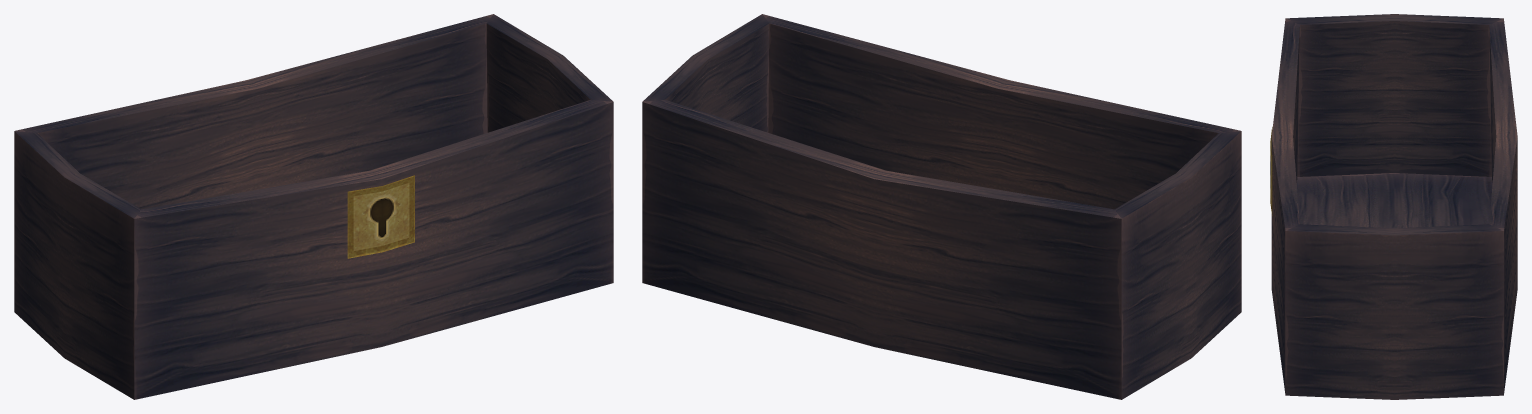
Rendered from Chest_Bottom_B.fbx.
The picture shows the model from 3 angles, left to right: view 1: azimuth 30°, elevation 25°; view 2: azimuth 150°, elevation 25°; view 3: azimuth 270°, elevation 25°; orthographic projection. The views are drawn at different scales.
Visible parts, largest first — view 1: Chest_Bottom_B; view 2: Chest_Bottom_B; view 3: Chest_Bottom_B.
Part boxes in pixels (x1,y1,x2,y2): Chest_Bottom_B: (14, 14, 613, 399); Chest_Bottom_B: (642, 14, 1241, 399); Chest_Bottom_B: (1270, 14, 1517, 399).
Bounding box in the file's own units: 0.2688 × 0.0932 × 0.1269.
